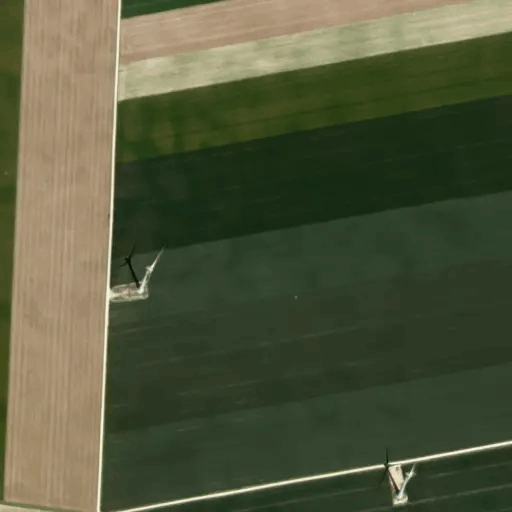wt: (372, 443, 427, 507), (109, 238, 170, 295)
